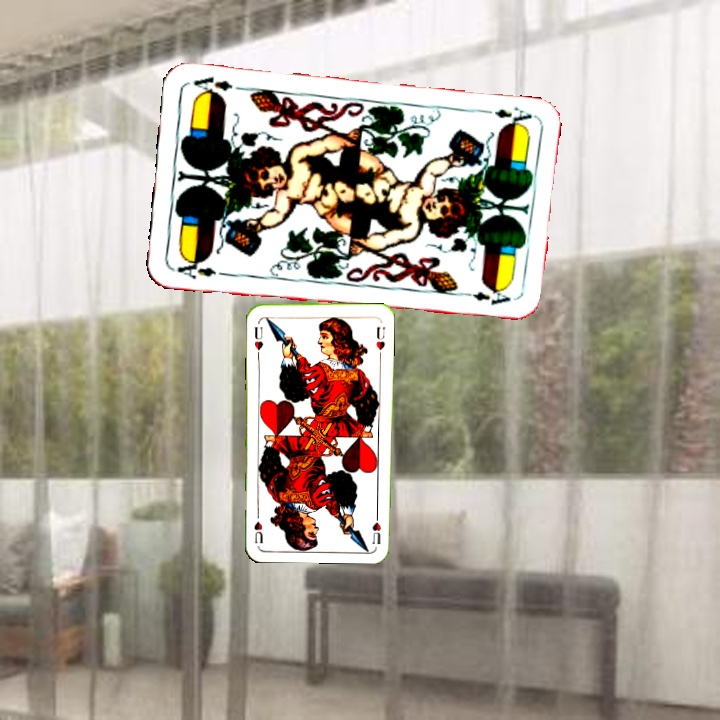EA: (476, 103, 535, 130), (173, 254, 219, 282)
HU: (368, 507, 383, 547), (250, 323, 265, 353)
